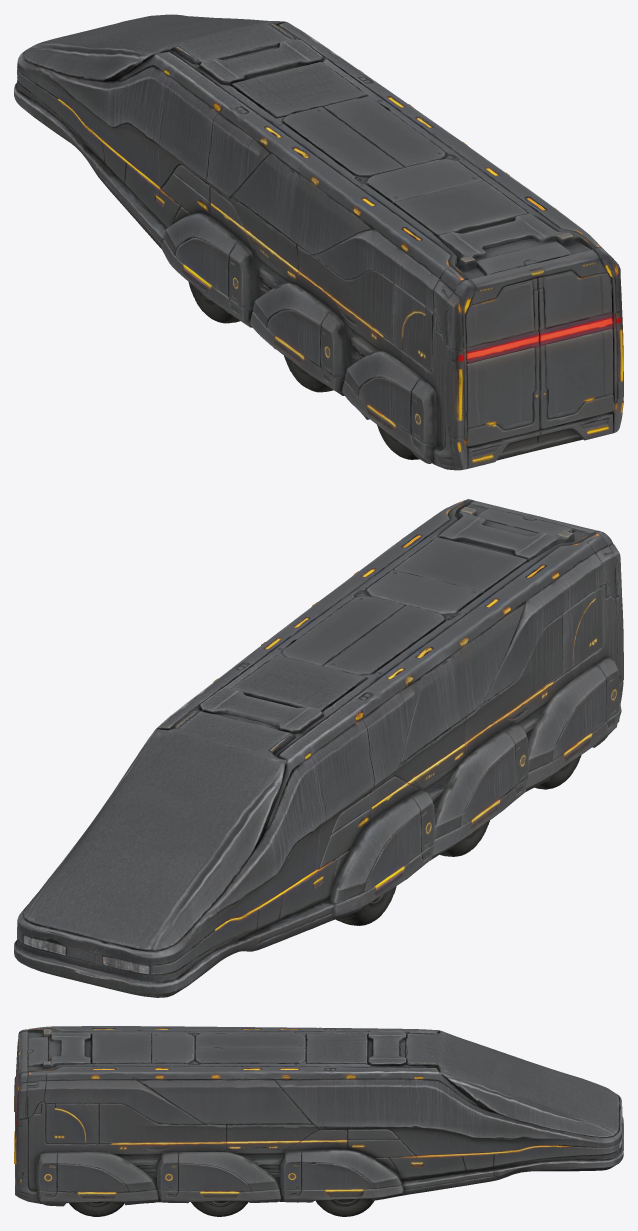
File: truck.glb
3 views of the same model, one above another, from view 1: azimuth 30°, elevation 25°; view 2: azimuth 150°, elevation 25°; view 3: azimuth 270°, elevation 25° (orthographic). The views are drawn at different scales.
Visible parts, largest first — view 1: SM_truck; view 2: SM_truck; view 3: SM_truck.
Boxes of the visible parts, <box> form: SM_truck: <box>14,14,623,470</box>; SM_truck: <box>14,499,623,997</box>; SM_truck: <box>14,1026,623,1216</box>.
Size of the model in its own units: 0.2456 by 0.2586 by 0.9805.
Materials: 1 (1 with a texture image).
